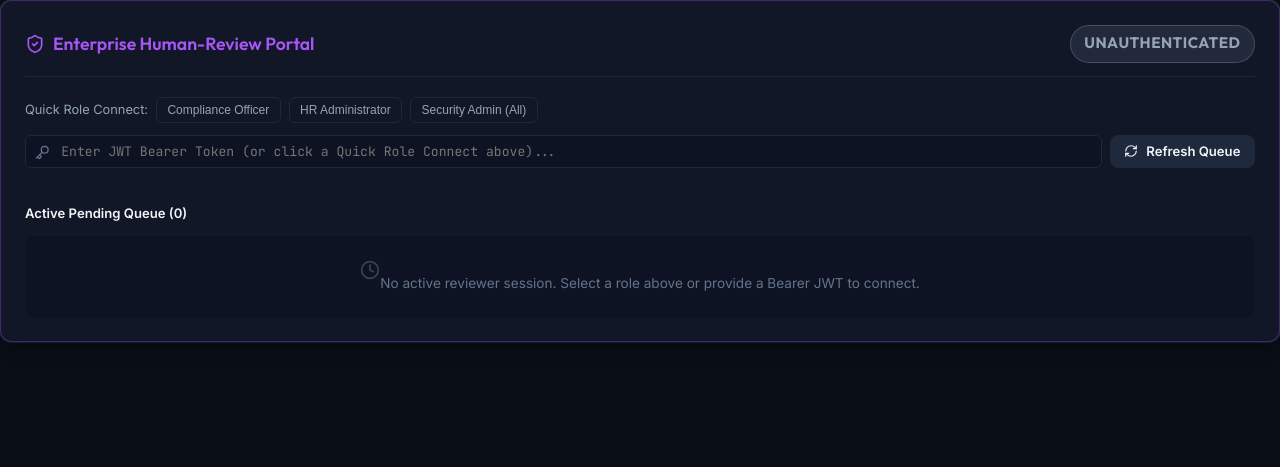
Test: ReviewPortal Authentication & Initialization Flow › 4. Quick Role Connect: acquires valid token, connects, and populates review tickets
Expected: the text "UNAUTHENTICATED" is shown, [1070,25,1255,63]
Note: Click "Compliance Officer"
Click the button "Compliance Officer" at (218, 110), box [156,97,281,123]
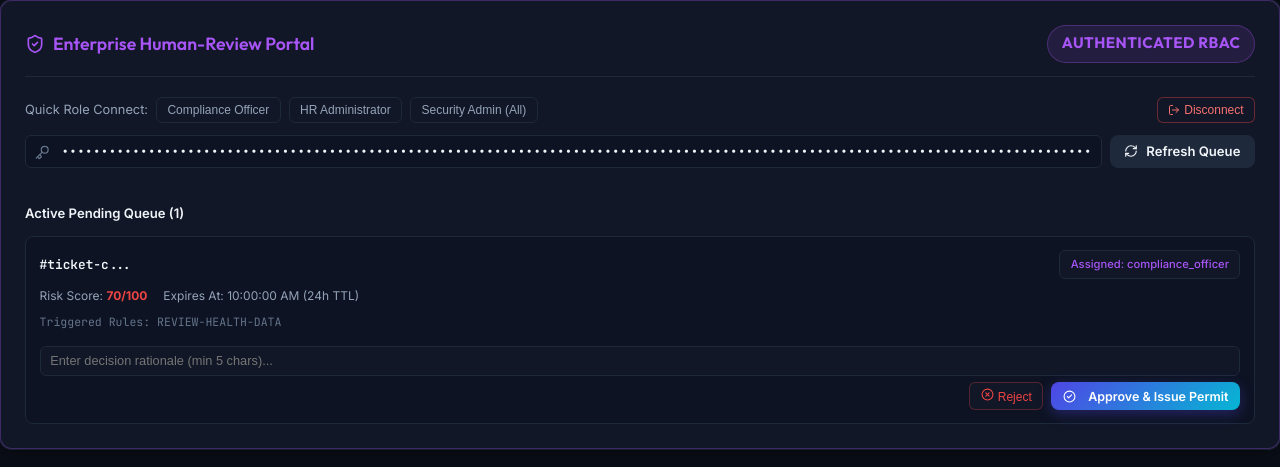
Expected: the text "AUTHENTICATED RBAC" is shown, [1047,25,1255,63]
Expected: the text "#ticket-c..." is shown, [40,255,132,274]
Note: Disconnect should reset to unauthenticated
Click the button "Disconnect" at (1206, 110), box [1157,97,1255,123]
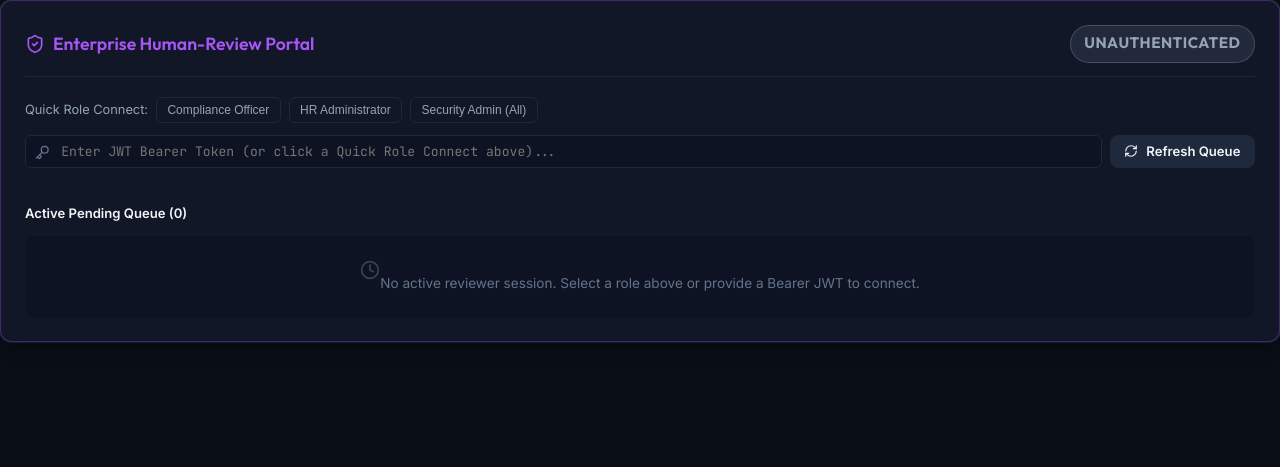
Expected: the text "UNAUTHENTICATED" is shown, [1070,25,1255,63]
